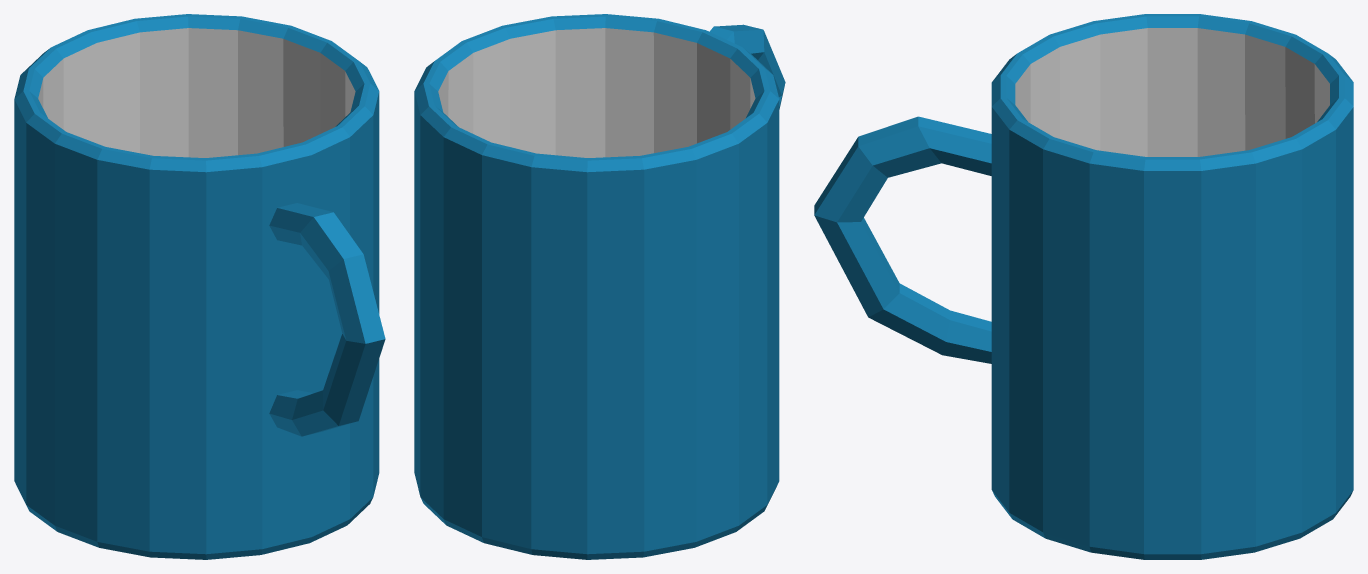
The model's file is Mug-transformed.glb.
3 renders of one model, left to right at view 1: azimuth 30°, elevation 25°; view 2: azimuth 150°, elevation 25°; view 3: azimuth 270°, elevation 25°, orthographic.
Visible parts, largest first — view 1: 496 Mugs; view 2: 496 Mugs; view 3: 496 Mugs.
Part boxes in pixels (left/top/right/bottom): 496 Mugs: left=14, top=14, right=385, bottom=559; 496 Mugs: left=414, top=14, right=785, bottom=559; 496 Mugs: left=814, top=14, right=1353, bottom=559.
Bounding box in the file's own units: 51.83 × 63.37 × 77.25.
Materials: 1 (1 with a texture image).
